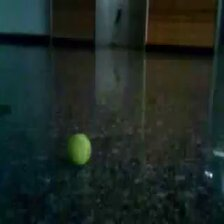tennis: (68, 133, 92, 166)
